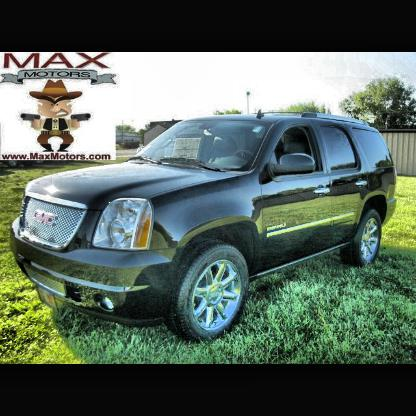GMC Yukon Hybrid SUV 2012: (10, 112, 398, 343)
